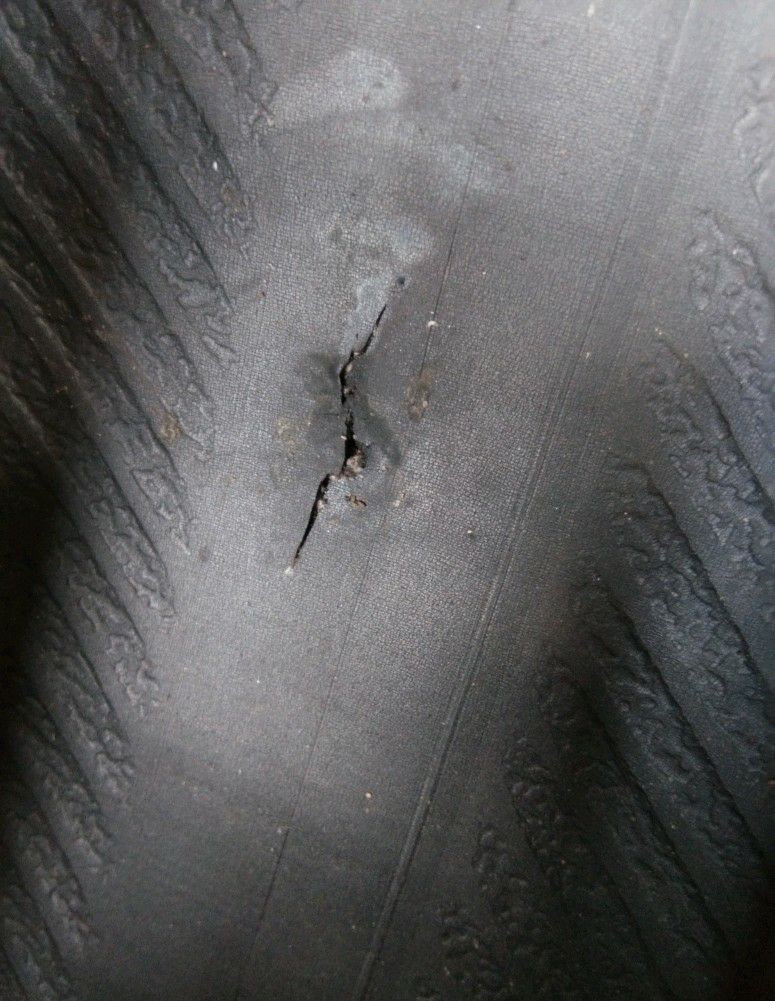CBU: (290, 298, 396, 570)
